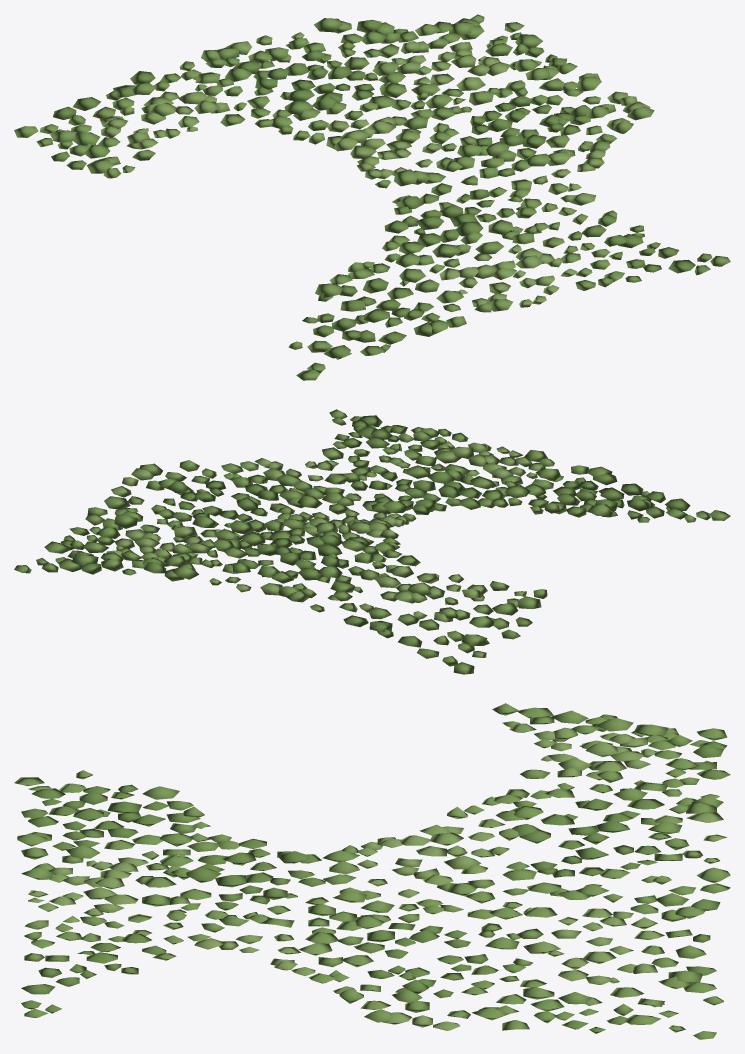
File: canopy-1--3--4.glb
3 renders of one model, top to bottom at view 1: azimuth 30°, elevation 25°; view 2: azimuth 150°, elevation 25°; view 3: azimuth 270°, elevation 25°, orthographic. The views are drawn at different scales.
Bounding box in the file's own units: 518 × 82.5 × 518.
Materials: 1 (1 with a texture image).
